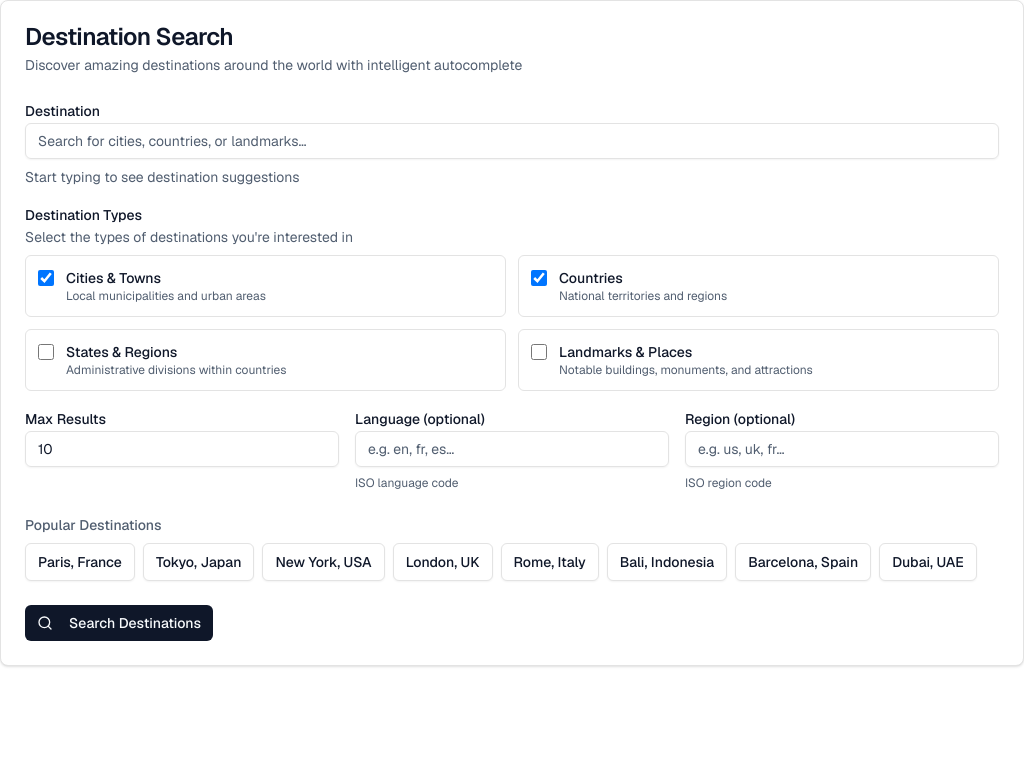
Test: DestinationSearchForm › fetches Google Places suggestions and applies selection
In the dropdown with placeholder "Search for cities, countries, or landmarks…": (512, 141) x1=25 y1=123 x2=999 y2=159, type "Paris"
Wait 350 ms
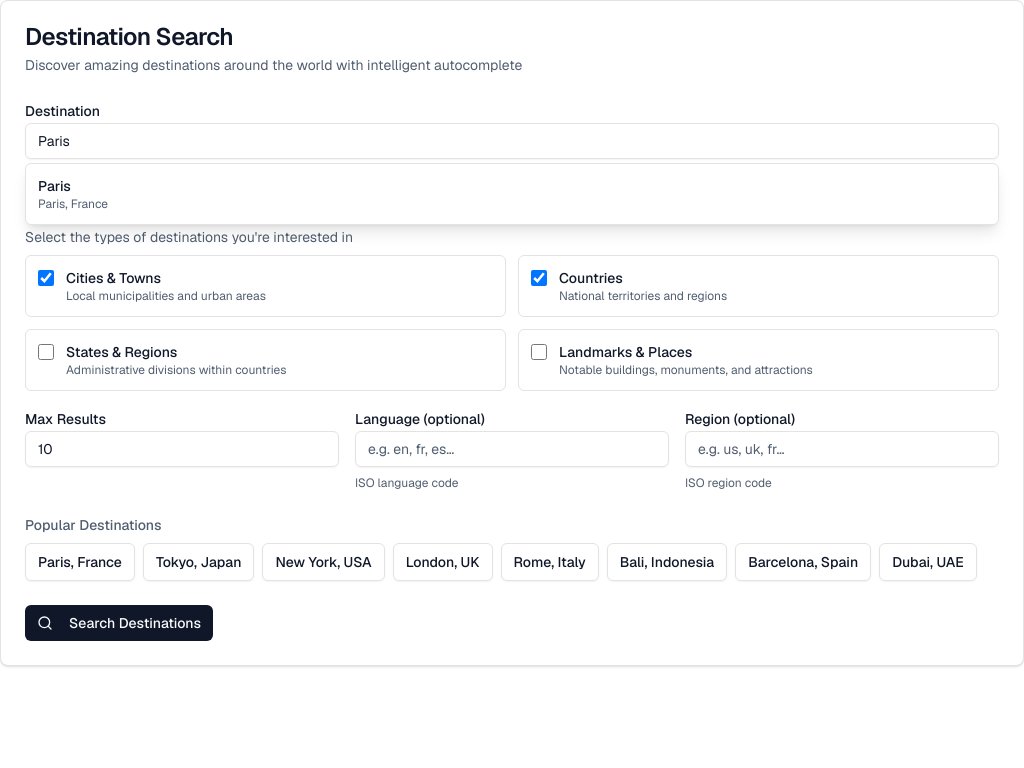
Press the mouse on the option "Paris Paris, France": (73, 194) x1=38 y1=177 x2=108 y2=212
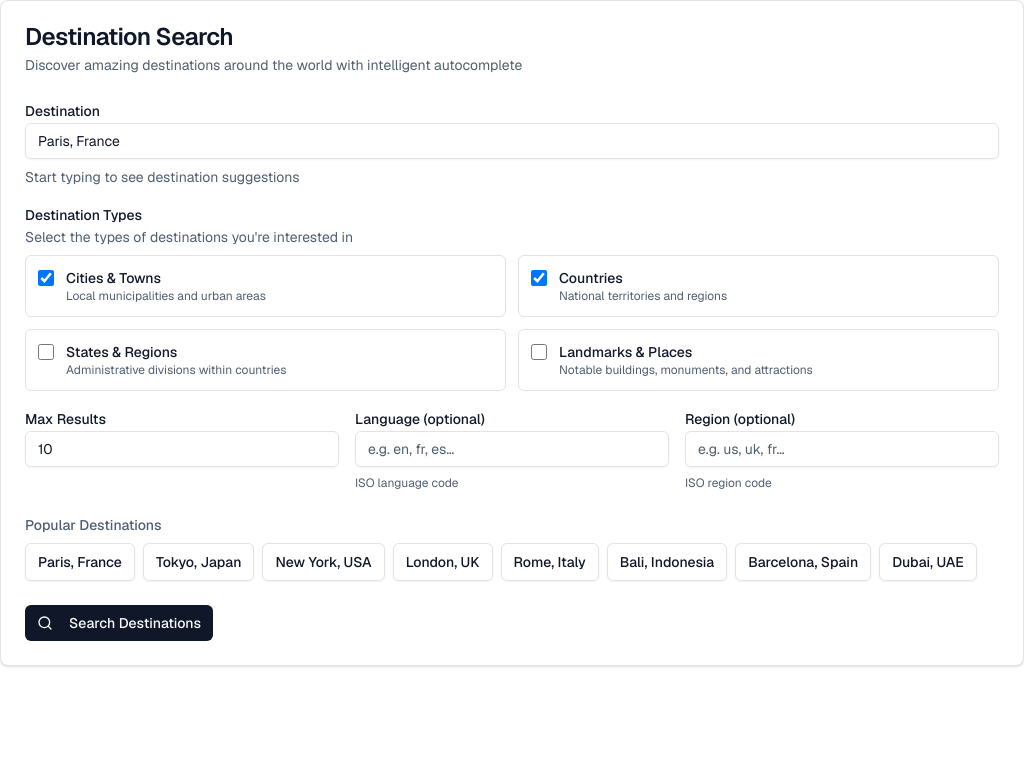
Expected: the dropdown with placeholder "Search for cities, countries, or landmarks…" holds "Paris, France", x1=25 y1=123 x2=999 y2=159
